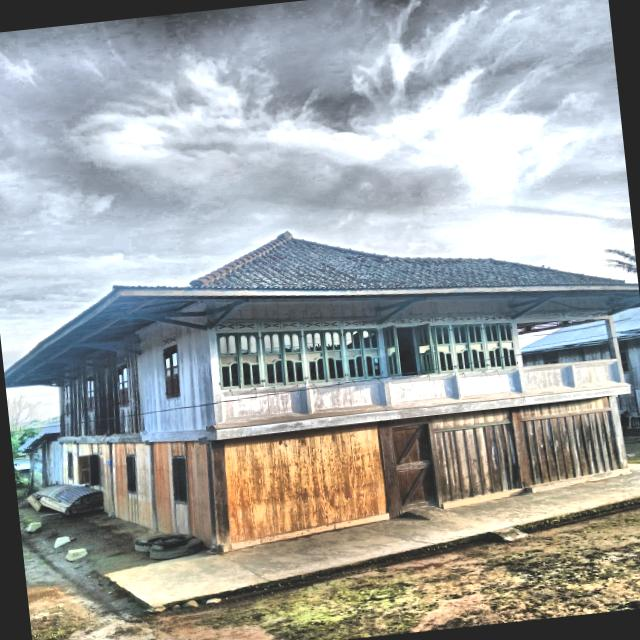column: (206, 439, 231, 551), (377, 420, 403, 519), (510, 406, 535, 493), (608, 394, 629, 473)
door: (392, 425, 435, 511)
ornamen: (221, 386, 308, 422), (309, 380, 386, 413), (388, 375, 459, 405), (459, 370, 522, 398), (523, 365, 575, 392), (574, 361, 621, 387)
roof: (4, 232, 640, 387), (521, 320, 606, 353), (21, 423, 60, 452), (613, 307, 640, 338)
wall: (215, 300, 388, 427), (224, 421, 388, 543), (381, 298, 524, 409), (518, 396, 620, 485), (432, 407, 521, 502), (140, 322, 208, 432), (152, 440, 211, 548), (112, 442, 153, 529), (105, 350, 142, 434), (77, 442, 111, 514), (76, 364, 108, 436), (58, 377, 76, 436), (47, 441, 61, 485), (62, 443, 77, 483)
window: (382, 322, 436, 377), (216, 332, 263, 390), (261, 330, 306, 386), (303, 329, 345, 383), (343, 327, 382, 380), (450, 323, 487, 372), (483, 322, 518, 369), (430, 324, 455, 374), (162, 344, 180, 398), (172, 455, 187, 504), (77, 454, 98, 486), (116, 363, 129, 407), (125, 454, 136, 493), (85, 375, 94, 412), (64, 382, 70, 416), (68, 453, 72, 479)
